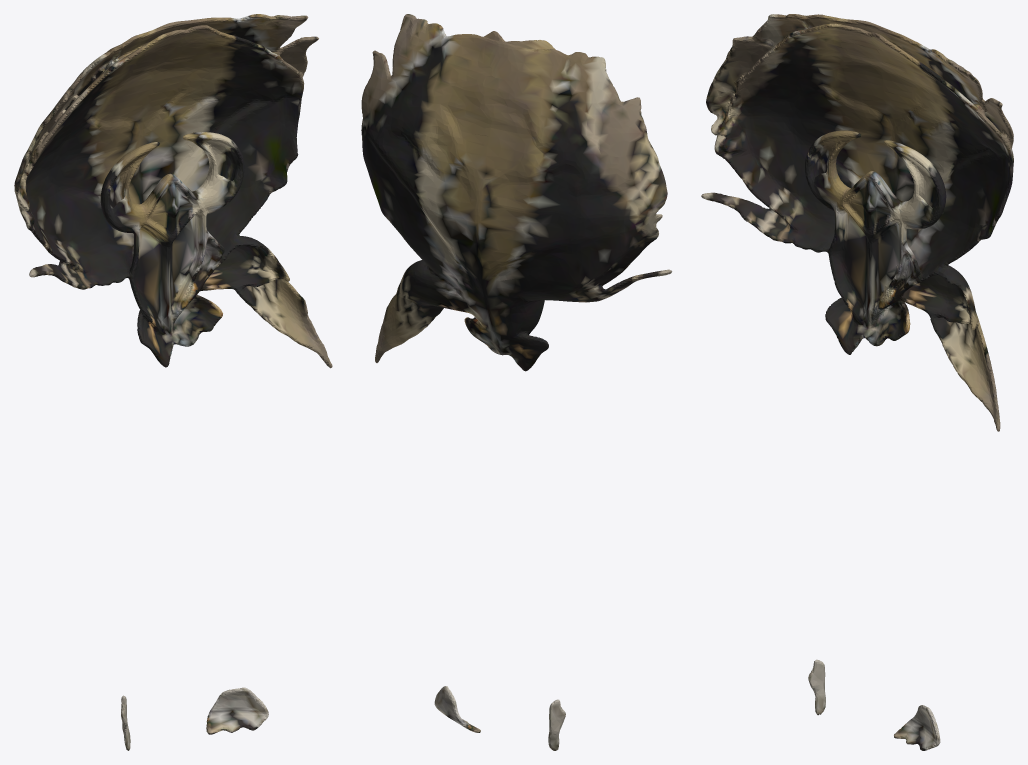
Rendered from fireDragon.glb.
3 renders of one model, left to right at view 1: azimuth 30°, elevation 25°; view 2: azimuth 150°, elevation 25°; view 3: azimuth 330°, elevation 25°, orthographic. The views are drawn at different scales.
Visible parts, largest first — view 1: world; view 2: world; view 3: world.
Part boxes in pixels (box(x1,y1,x2,y2)): world: box(14, 14, 332, 750); world: box(361, 14, 672, 750); world: box(701, 14, 1013, 750).
Bounding box in the file's own units: 0.4492 × 1 × 0.1278.
